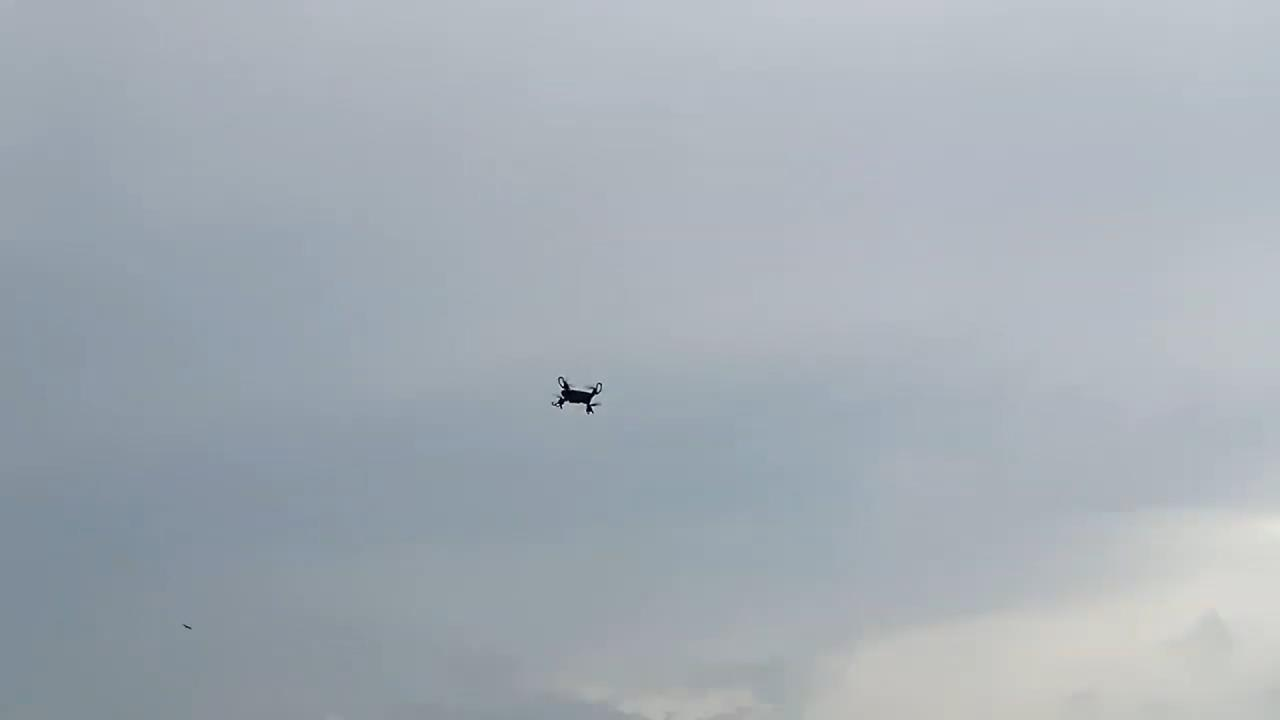Drone: (534, 363, 619, 428)
